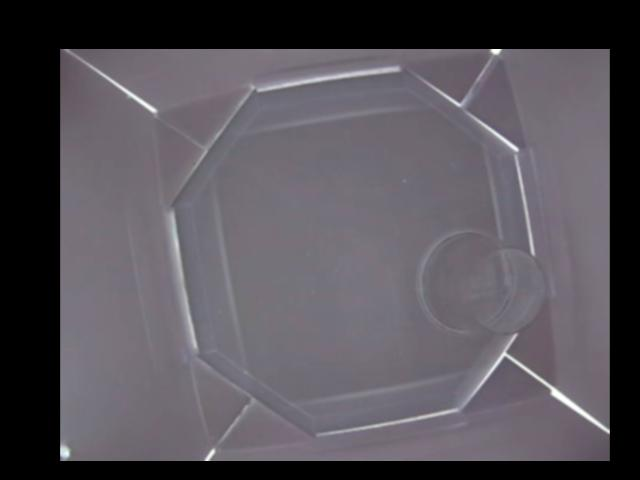Cup: (415, 230, 541, 334)
